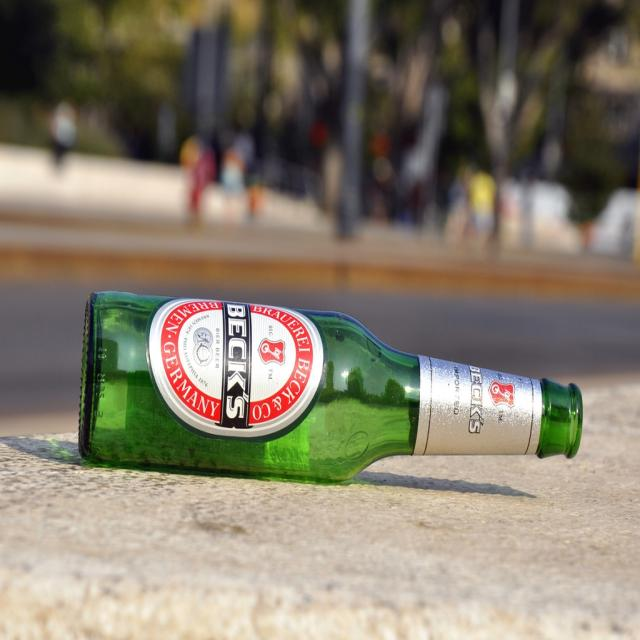becks: (150, 295, 329, 435)
